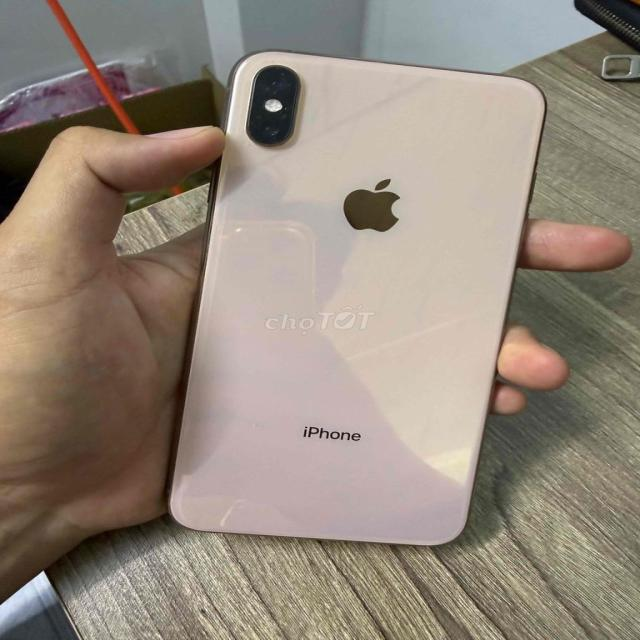gen_x_xs: (170, 51, 545, 544)
